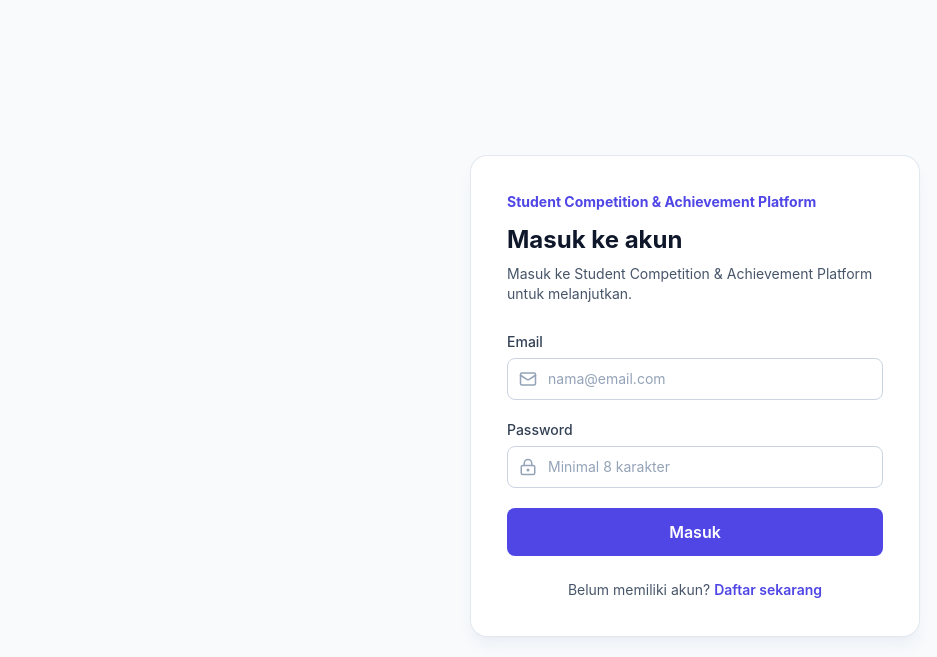
Test: LoginPage › returns to the requested public competition after login
Type "student@scap.test" into the field labelled "Email" at (695, 379), box [507, 358, 883, 400]
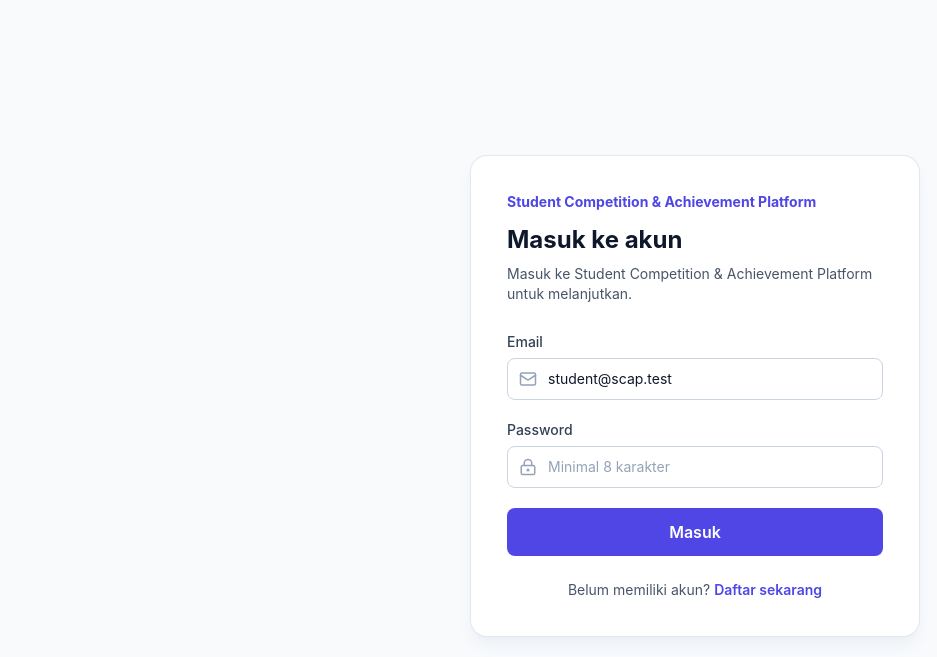
Type "Password123!" into the password field labelled "Password" at (695, 467), box [507, 446, 883, 488]
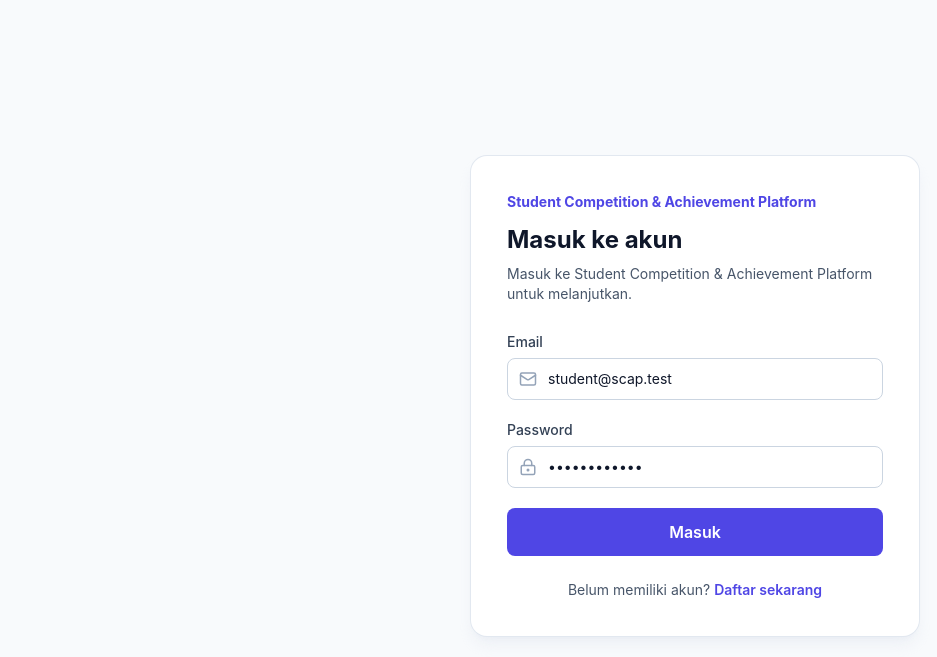
Click the button "Masuk" at (695, 532), box [507, 508, 883, 556]
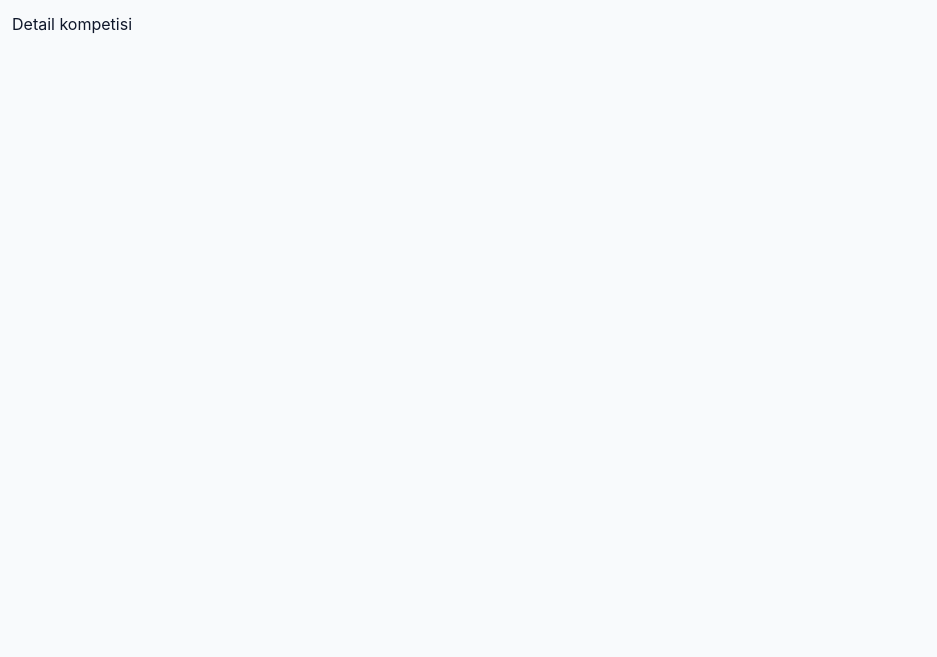
Check: the text "Detail kompetisi" is shown, box [12, 14, 132, 34]
